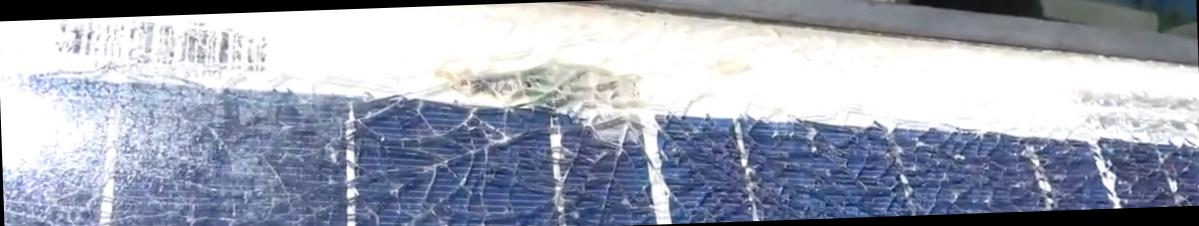Crack: (405, 42, 670, 225)
